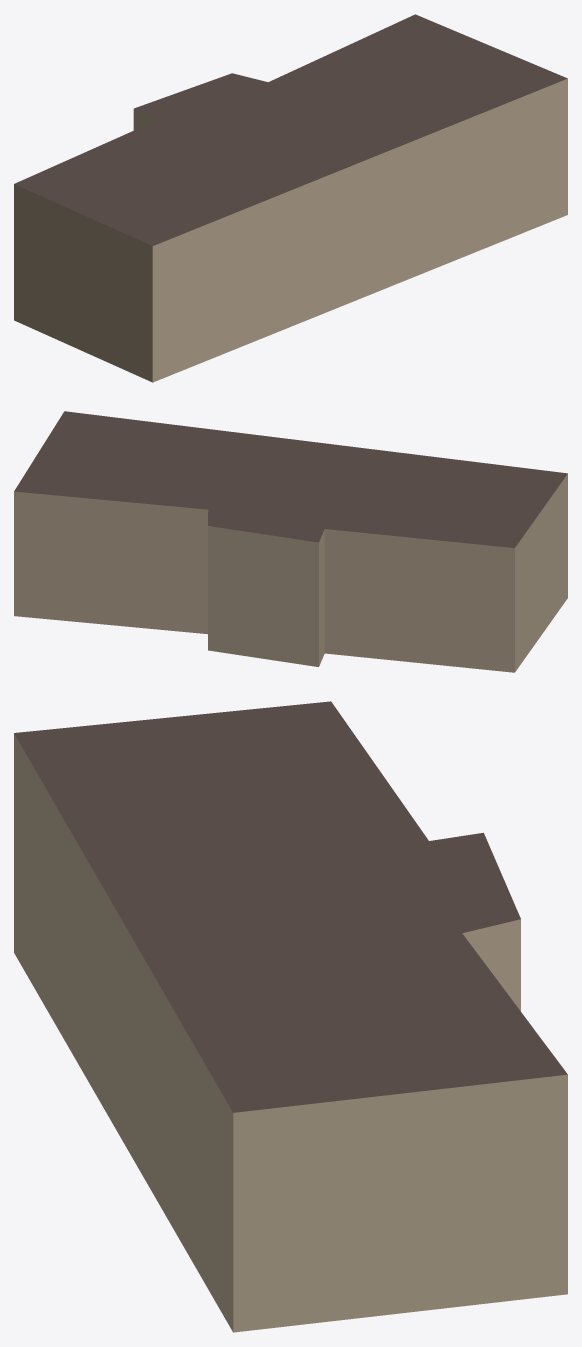
The picture shows the model from 3 angles, top to bottom: view 1: azimuth 30°, elevation 25°; view 2: azimuth 150°, elevation 25°; view 3: azimuth 270°, elevation 25°; orthographic projection. The views are drawn at different scales.
Visible parts, largest first — view 1: HP-w1512481859; view 2: HP-w1512481859; view 3: HP-w1512481859.
Boxes of the visible parts, x1,y1,x2,y2 form: HP-w1512481859: (14, 14, 567, 382); HP-w1512481859: (14, 411, 567, 672); HP-w1512481859: (14, 701, 567, 1332).
Bounding box in the file's own units: 36.15 × 9 × 20.57.
